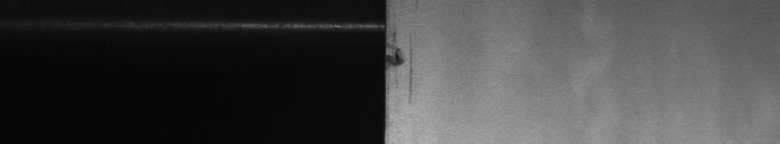hb: (396, 36, 413, 102)
